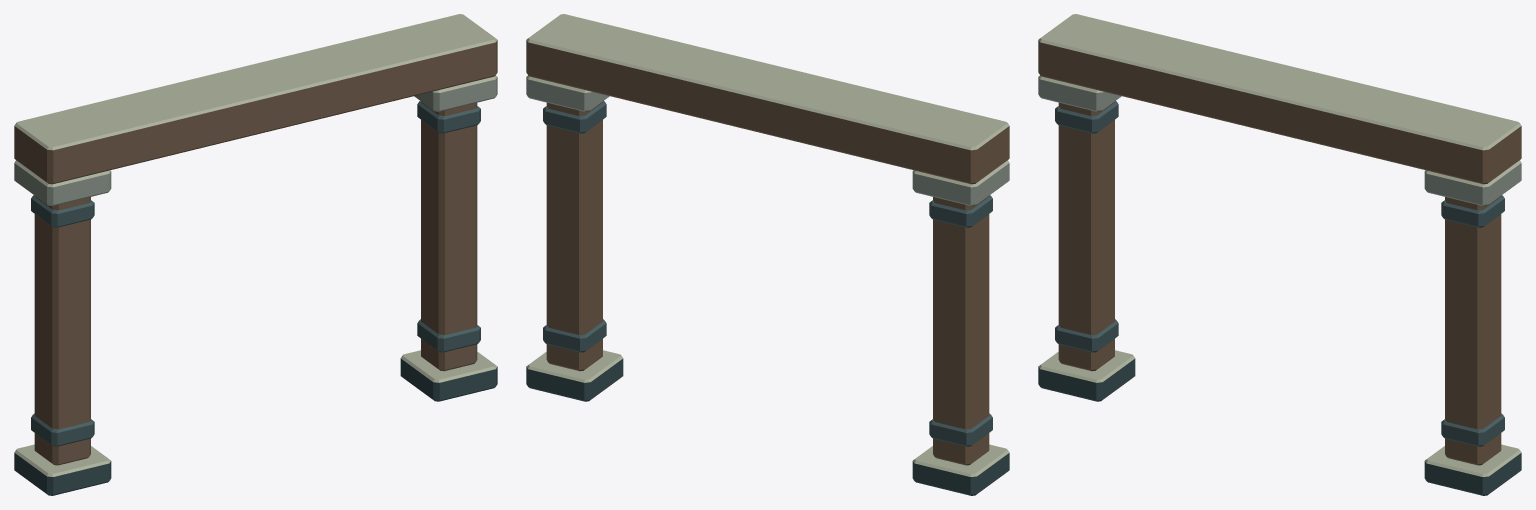
Rendered from arch-free.glb.
The picture shows the model from 3 angles, left to right: view 1: azimuth 30°, elevation 25°; view 2: azimuth 150°, elevation 25°; view 3: azimuth 330°, elevation 25°; orthographic projection.
Visible parts, largest first — view 1: arch-free__body; view 2: arch-free__body; view 3: arch-free__body.
Boxes of the visible parts, x1=… form: arch-free__body: x1=14, y1=14, x2=497, y2=495; arch-free__body: x1=526, y1=14, x2=1009, y2=495; arch-free__body: x1=1038, y1=14, x2=1521, y2=495.
Size of the model in its own units: 2.8 by 2.07 by 0.4.
